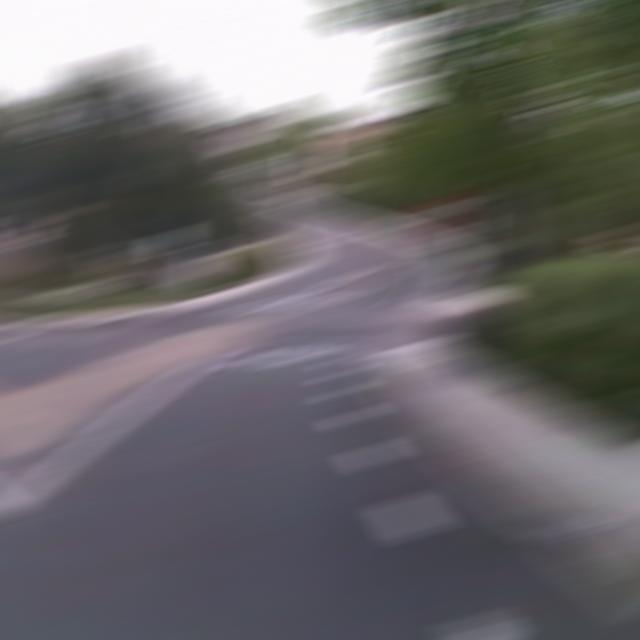stop: (414, 191, 466, 232)
